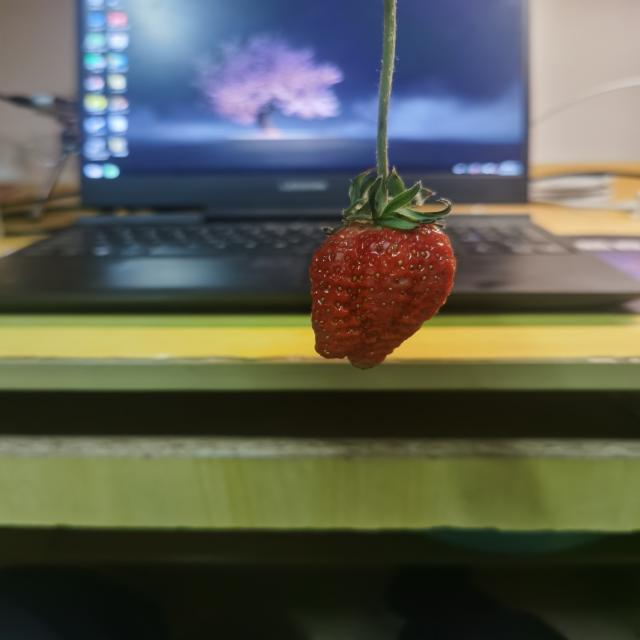stem: (377, 117, 388, 212)
strawberry: (309, 205, 457, 370)
